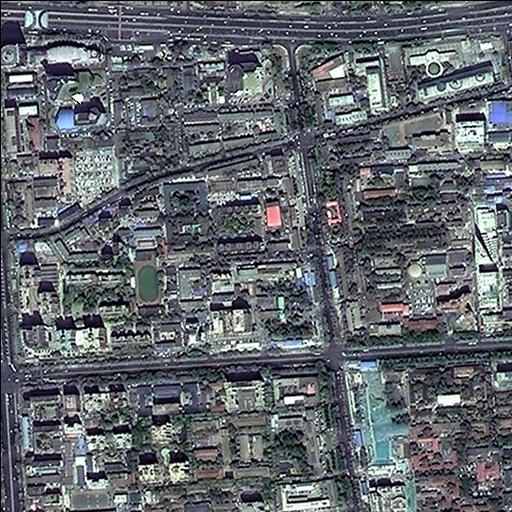school: (381, 106, 451, 162), (130, 248, 168, 318), (61, 479, 131, 511)
